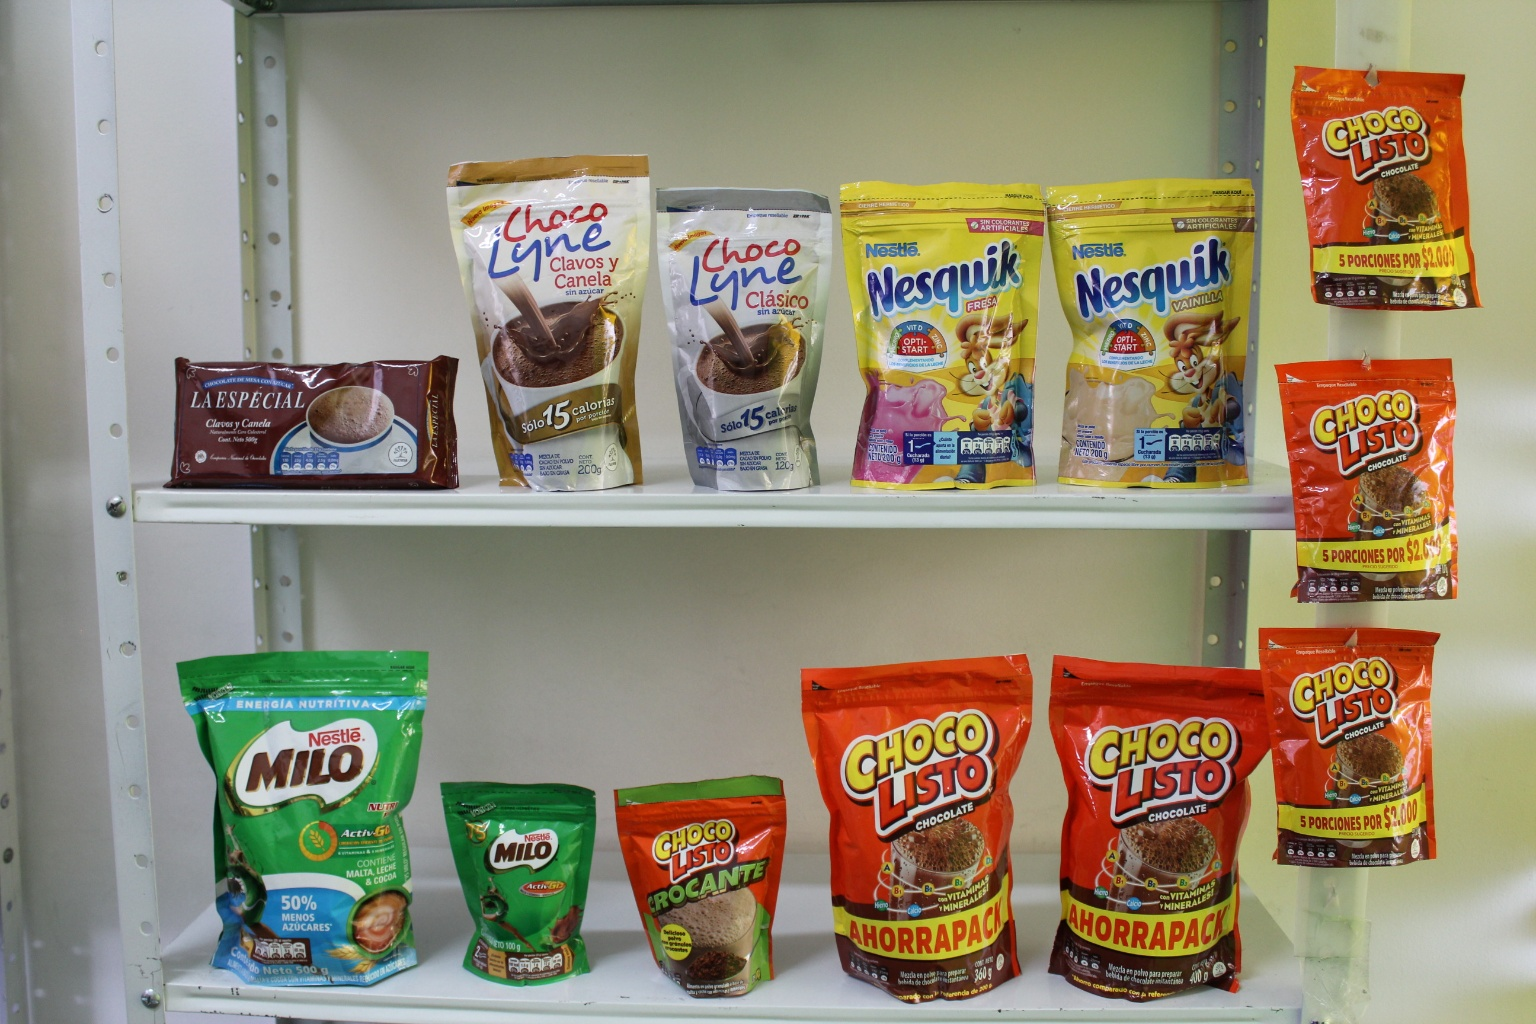COL0170102DYP10000: (599, 774, 784, 999)
COL0170103DYP10000: (1293, 57, 1470, 318)
COL0170103DYP36000: (811, 643, 1029, 1009)
COL0170103DYP40000: (1034, 641, 1282, 995)
COL0170203DYP10000: (443, 768, 605, 989)
COL0170205DYP50000: (171, 642, 449, 990)
COL0170305DYP20000: (818, 171, 1051, 480)
COL0170306DYP20000: (1047, 181, 1269, 482)
